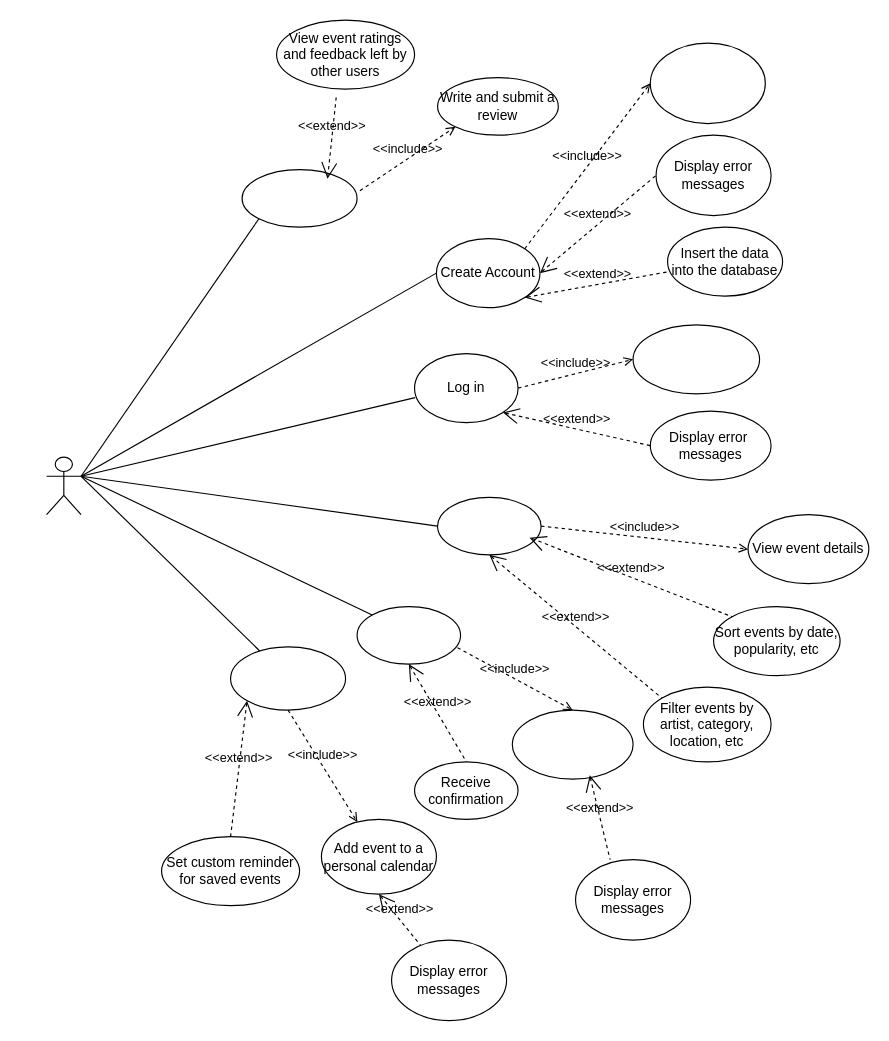
This 889x1041 diagram has some shape labels left out. The shapes that lost their labels are listed below. From the top down, each one's centre as x and y in pixels, then its label:
At pixel 707 83: "Check account existance".
At pixel 299 197: "Leave feedback/rate events".
At pixel 696 359: "Check data".
At pixel 63 485: "Standard User".
At pixel 488 525: "Browse events".
At pixel 408 634: "Purchase tickets".
At pixel 287 678: "Save events".
At pixel 572 744: "Complete the transaction".
